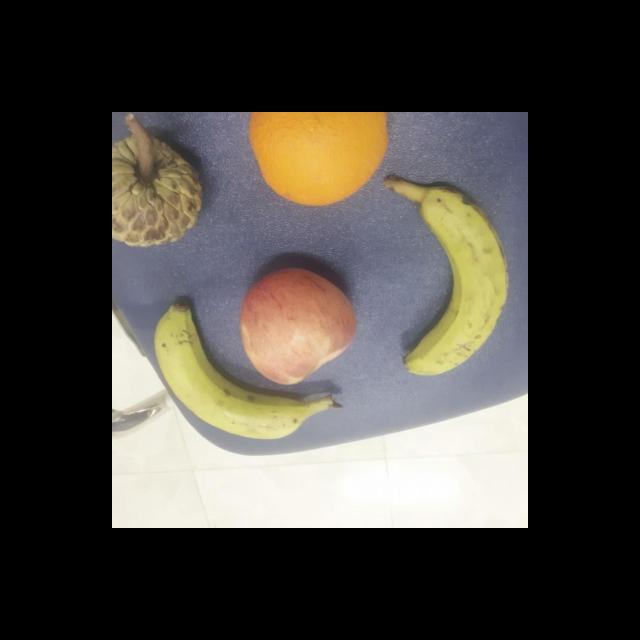Sakya fruit: (112, 136, 205, 250)
apple: (236, 263, 360, 387)
banana: (400, 185, 514, 378), (154, 302, 308, 442)
orange: (250, 112, 394, 206)
